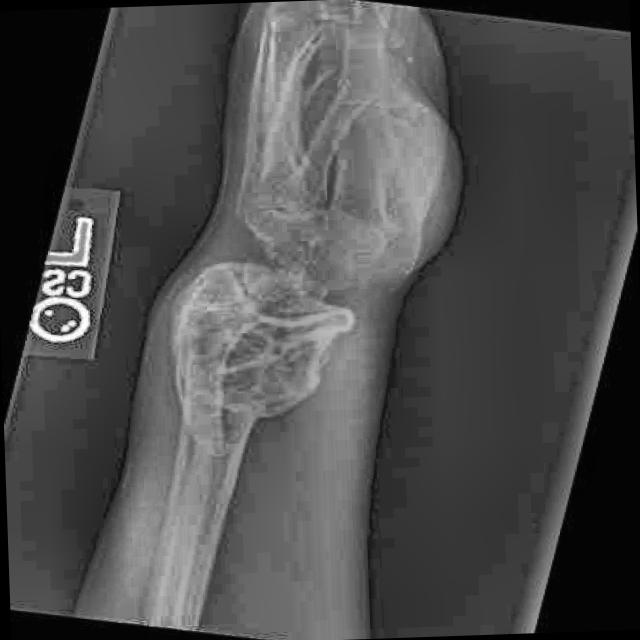wrist positive: (134, 248, 396, 438)
